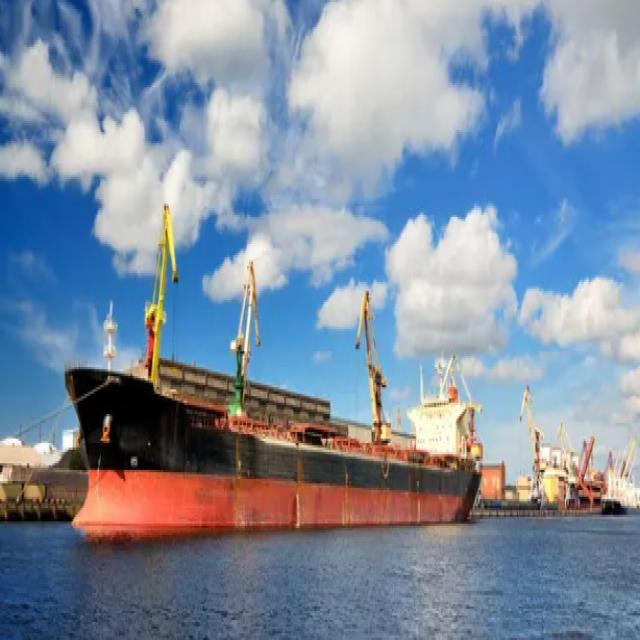cargoship: (61, 267, 490, 549)
